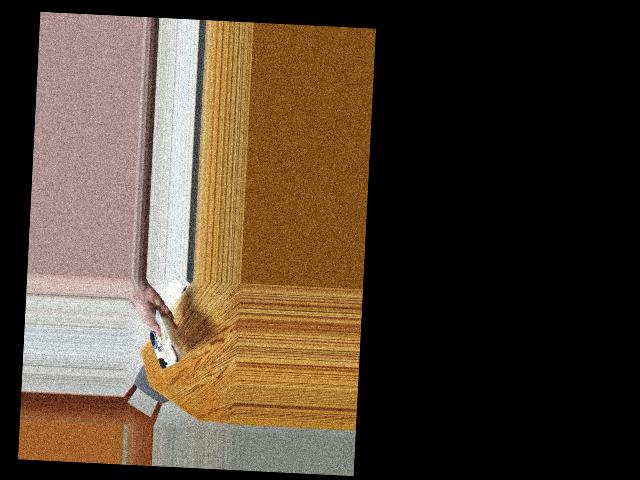cheese: (139, 317, 186, 366)
